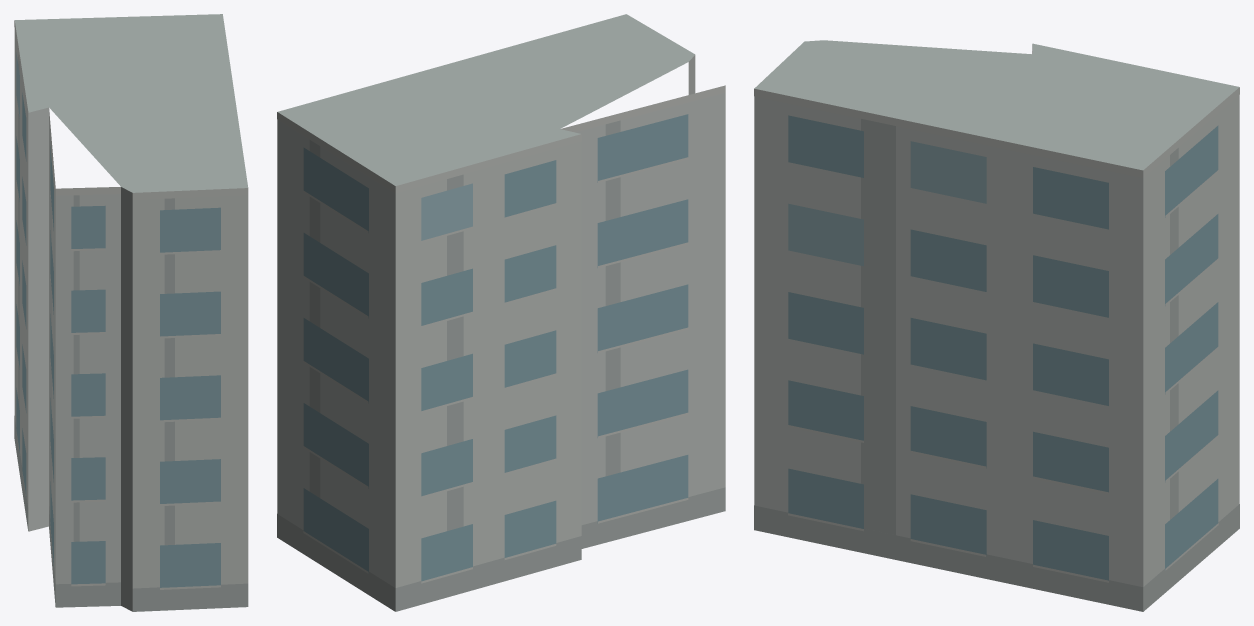
Rendered from survey-upis-32729594.glb.
The picture shows the model from 3 angles, left to right: view 1: azimuth 30°, elevation 25°; view 2: azimuth 150°, elevation 25°; view 3: azimuth 270°, elevation 25°; orthographic projection. The views are drawn at different scales.
Visible parts, largest first — view 1: survey-upis-32729594.tmp; view 2: survey-upis-32729594.tmp; view 3: survey-upis-32729594.tmp.
Boxes of the visible parts, <box> form: survey-upis-32729594.tmp: <box>14,14,248,611</box>; survey-upis-32729594.tmp: <box>277,14,725,611</box>; survey-upis-32729594.tmp: <box>754,40,1239,611</box>.
Size of the model in its own units: 10.72 by 14.1 by 14.07.
